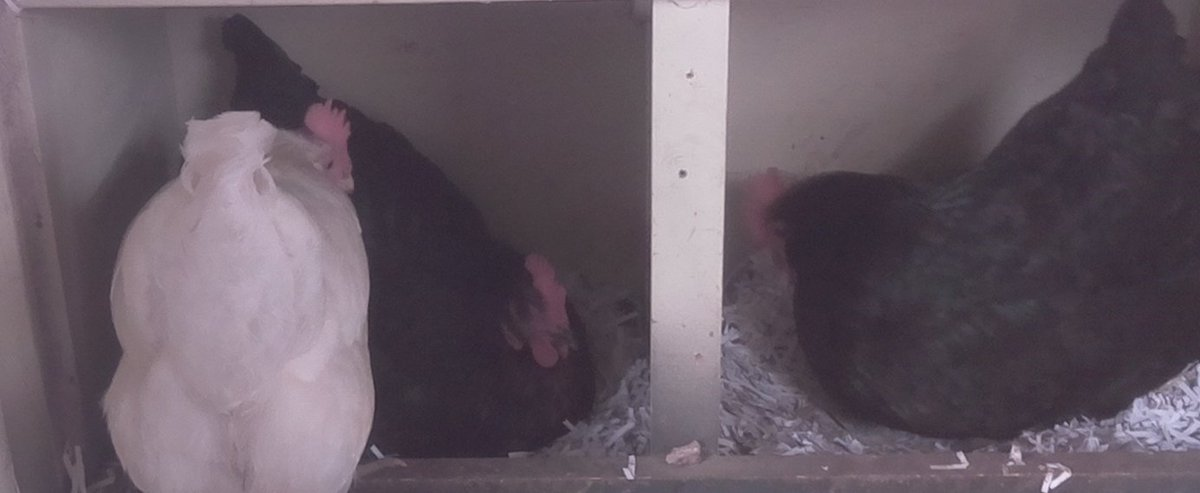hen: (748, 3, 1200, 444), (205, 7, 603, 455), (93, 95, 382, 493)
